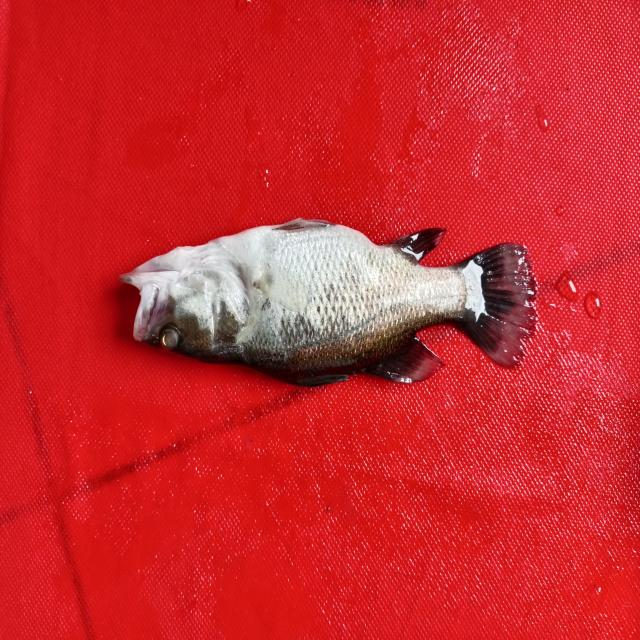ikan: (103, 140, 566, 417)
